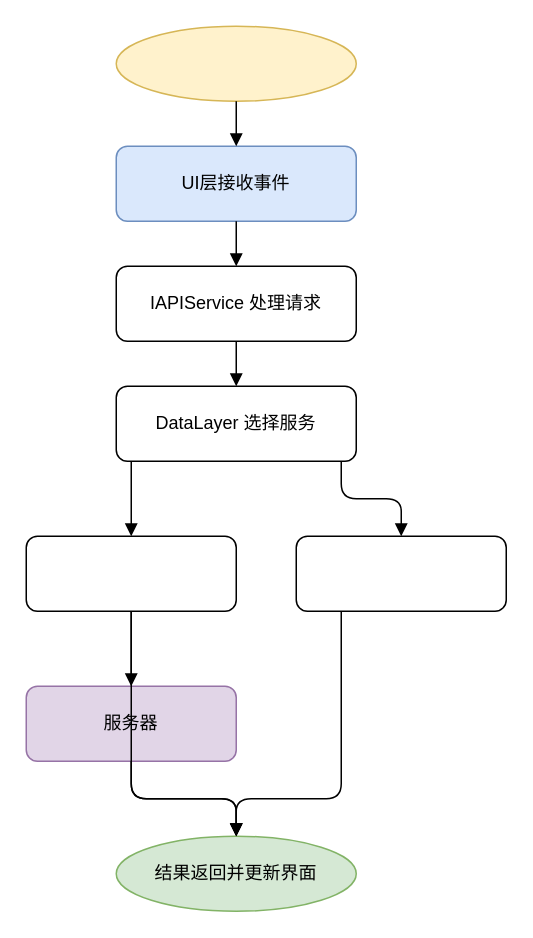
Image size: 533x938. Some labels were removed from this diagram. The centre of each missing label's shape, as x and y in pixels:
"APIService\n（与服务器通信）" goes at point 130,573.
"MockAPIService\n（数据模拟）" goes at point 400,573.
"用户操作（如点击按钮）" goes at point 235,63.
